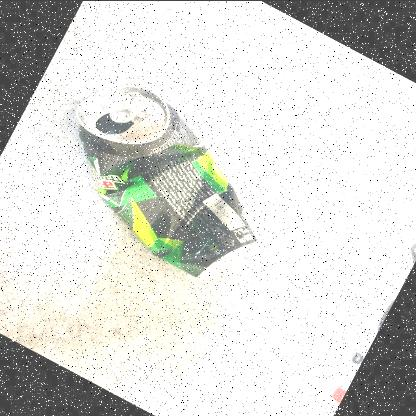Can: (77, 86, 257, 278)
